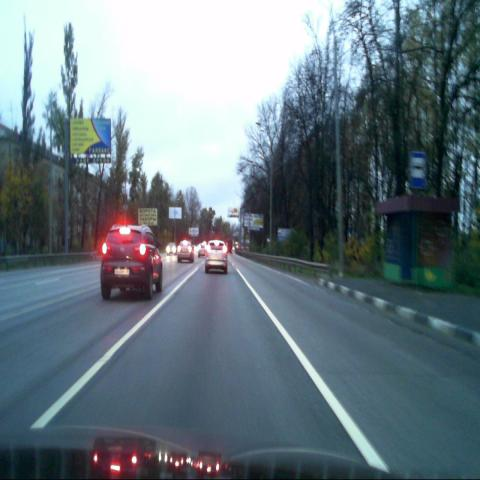5_16: (409, 152, 426, 190)
